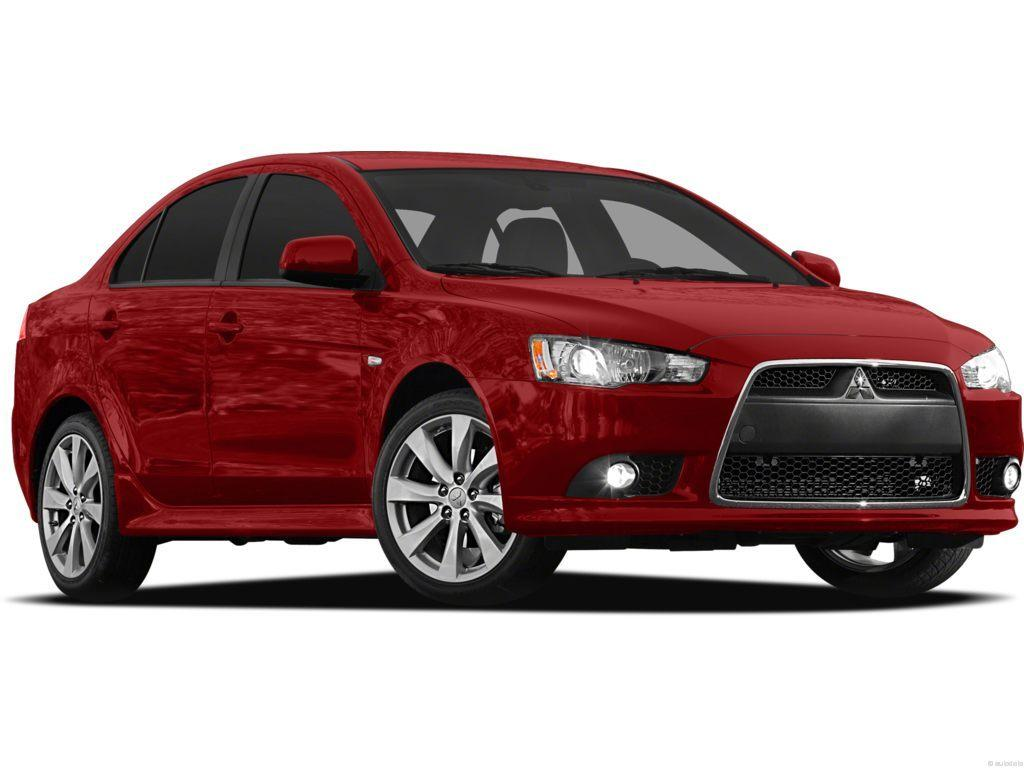Mitsubishi: (836, 364, 901, 409)
